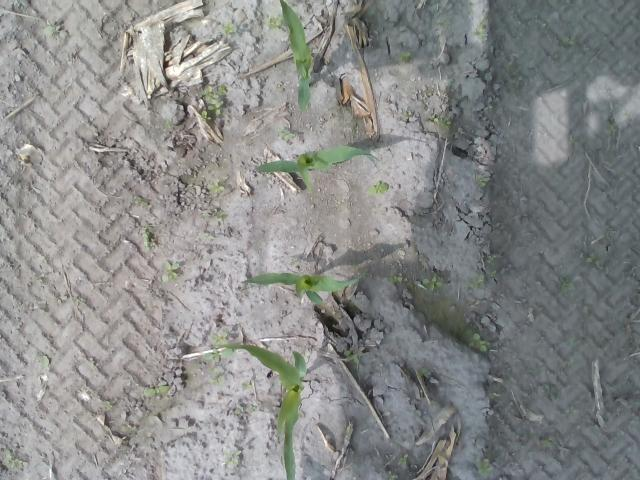Maize: (206, 341, 308, 478), (253, 141, 377, 191), (276, 0, 318, 113), (240, 269, 360, 308)
Weeds: (197, 82, 230, 125), (40, 24, 70, 40), (583, 249, 606, 269), (465, 272, 487, 292), (160, 260, 180, 282), (232, 402, 256, 420), (422, 274, 446, 292), (140, 228, 158, 252), (144, 383, 170, 399), (343, 348, 367, 365), (205, 176, 225, 196), (224, 449, 244, 468), (366, 180, 389, 196), (412, 364, 432, 382), (468, 334, 488, 352), (204, 348, 234, 360), (476, 458, 496, 475), (387, 272, 410, 286), (264, 14, 284, 30), (278, 127, 300, 141), (432, 114, 453, 128), (558, 33, 576, 49), (34, 352, 52, 367), (557, 276, 576, 290), (210, 207, 227, 222), (212, 331, 229, 346), (472, 22, 488, 37), (222, 20, 239, 34), (209, 370, 223, 386), (398, 50, 413, 64), (538, 436, 555, 448), (476, 173, 490, 187), (10, 456, 23, 469), (386, 470, 401, 480), (398, 454, 409, 466), (487, 270, 498, 280), (487, 254, 496, 266), (164, 120, 172, 130)
